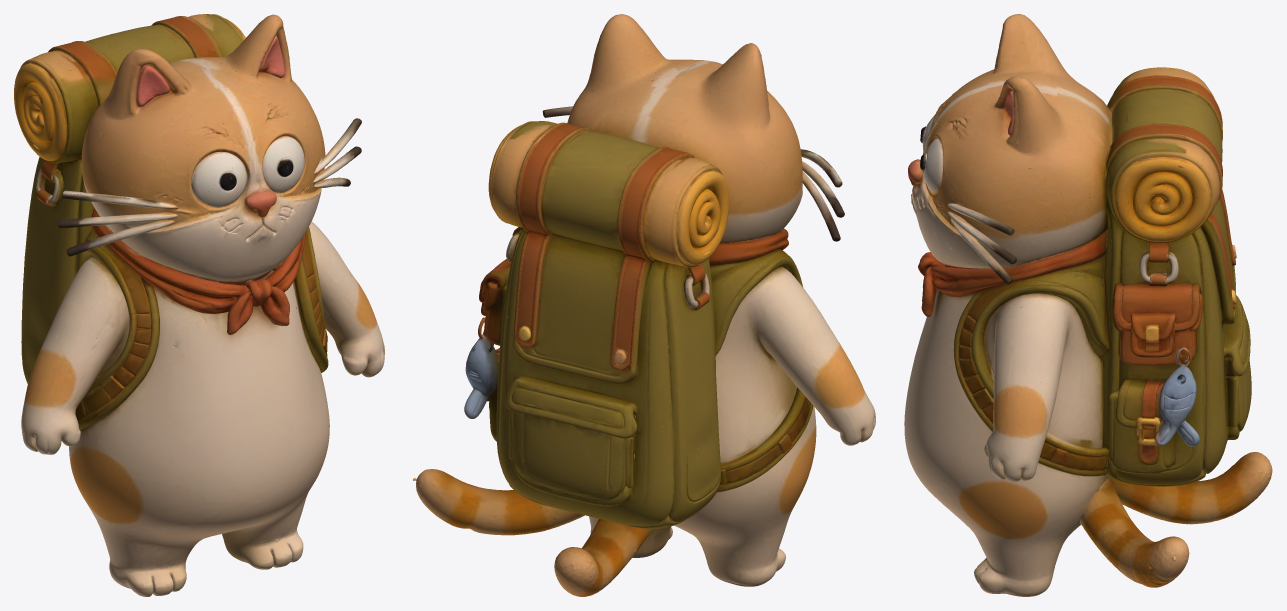
Rendered from about-cat.glb.
The picture shows the model from 3 angles, left to right: view 1: azimuth 30°, elevation 25°; view 2: azimuth 150°, elevation 25°; view 3: azimuth 270°, elevation 25°; orthographic projection. The views are drawn at different scales.
Visible parts, largest first — view 1: node_0; view 2: node_0; view 3: node_0.
Part boxes in pixels (box(x1,y1,x2,y2)): node_0: box(14, 14, 384, 596); node_0: box(413, 14, 875, 596); node_0: box(904, 14, 1272, 596).
Size of the model in its own units: 0.8015 by 1.08 by 0.7014.
1 material, 1 textured.
